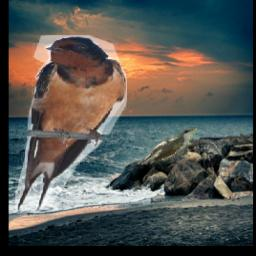Cuckoo: (139, 129, 199, 165)
Swallow: (16, 36, 128, 212)
